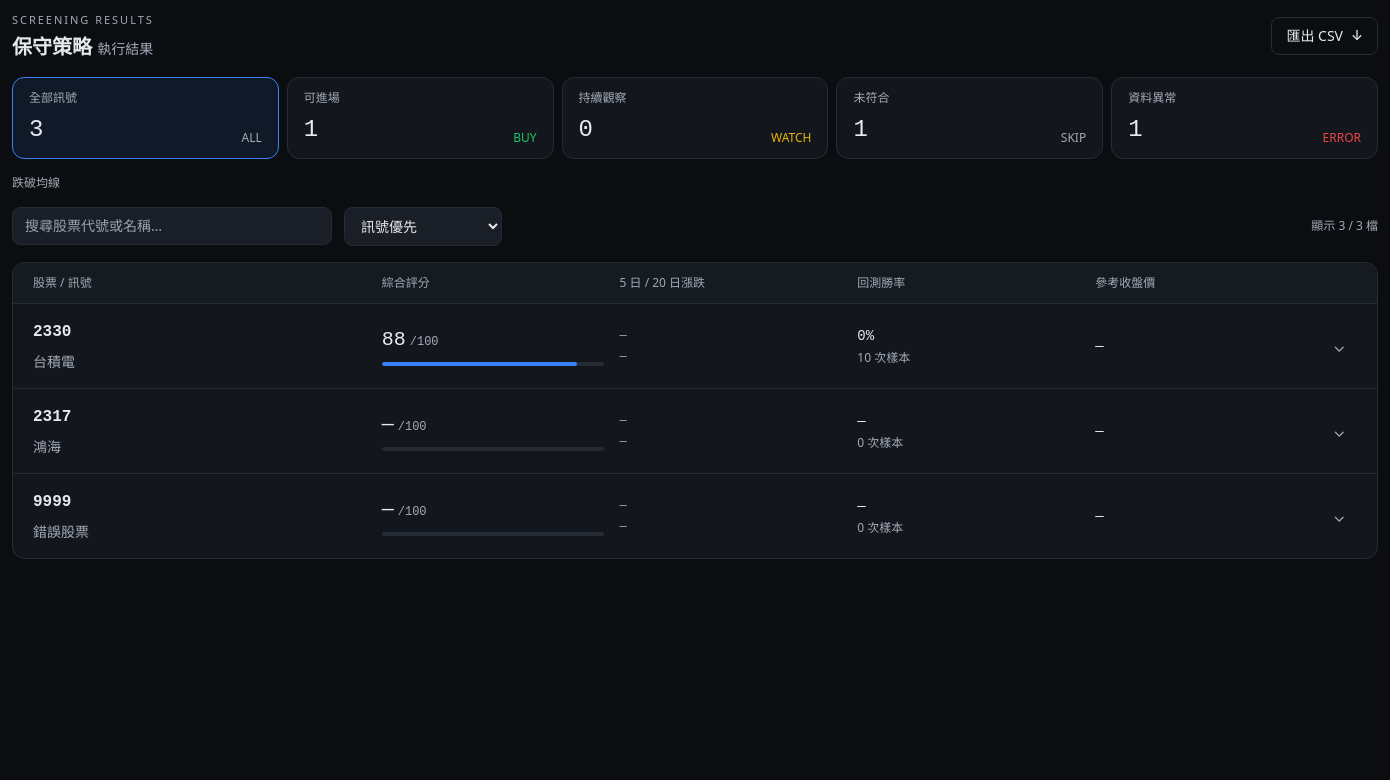
it: results retain error and missing-data rows, and preserve zero winrate
Expected: the text "錯誤股票" is shown, x1=33 y1=522 x2=89 y2=540
Expected: the text "0%" is shown, x1=857 y1=328 x2=874 y2=344
Step 1. Click the button "資料異常 1 ERROR" → (1152, 97), box x1=1111 y1=76 x2=1378 y2=158
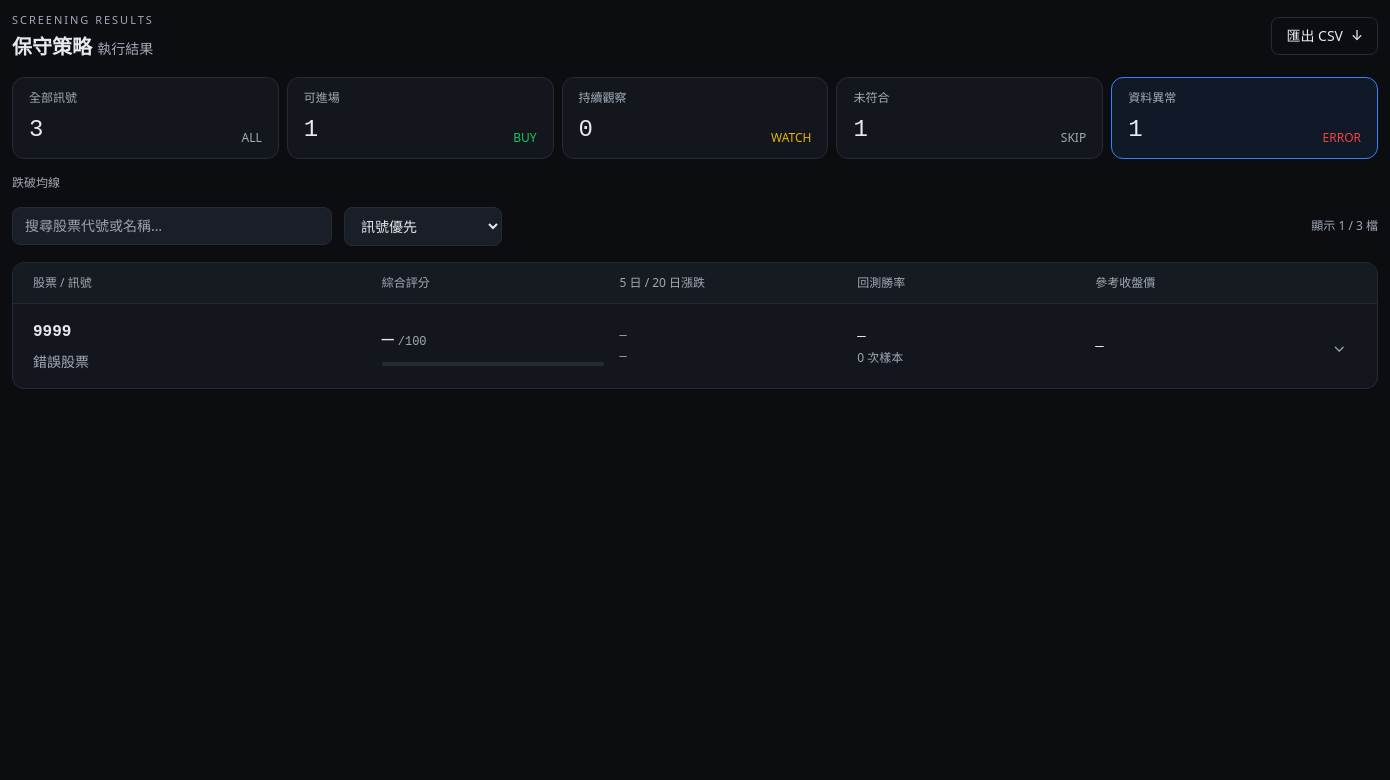
Expected: the text "錯誤股票" is shown, x1=33 y1=352 x2=89 y2=370
Result: the heading "台積電" is gone
Step 2. Click the button "全部訊號 3 ALL" → (53, 97), box x1=12 y1=76 x2=279 y2=158
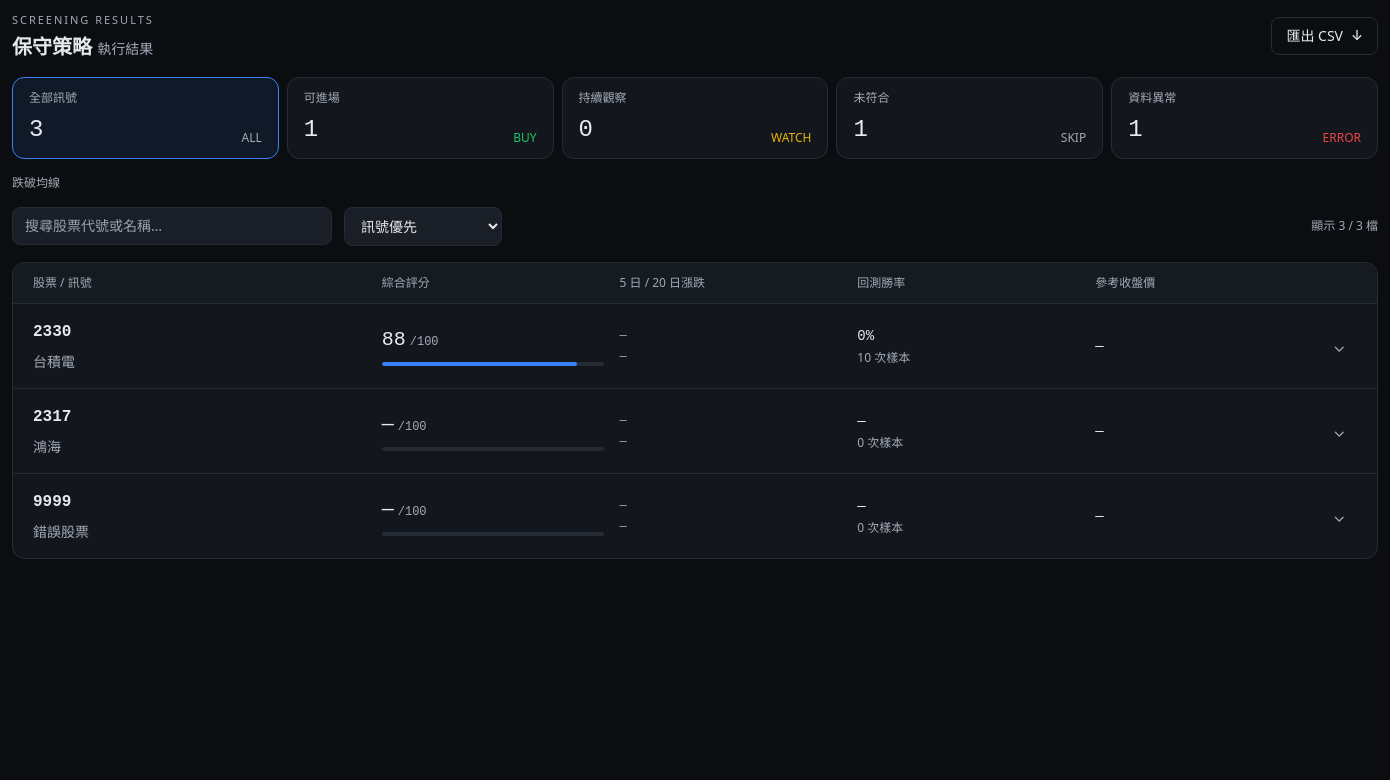
Step 3. Type "2330" into the search field labelled "搜尋股票" → (172, 226), box x1=12 y1=207 x2=332 y2=245
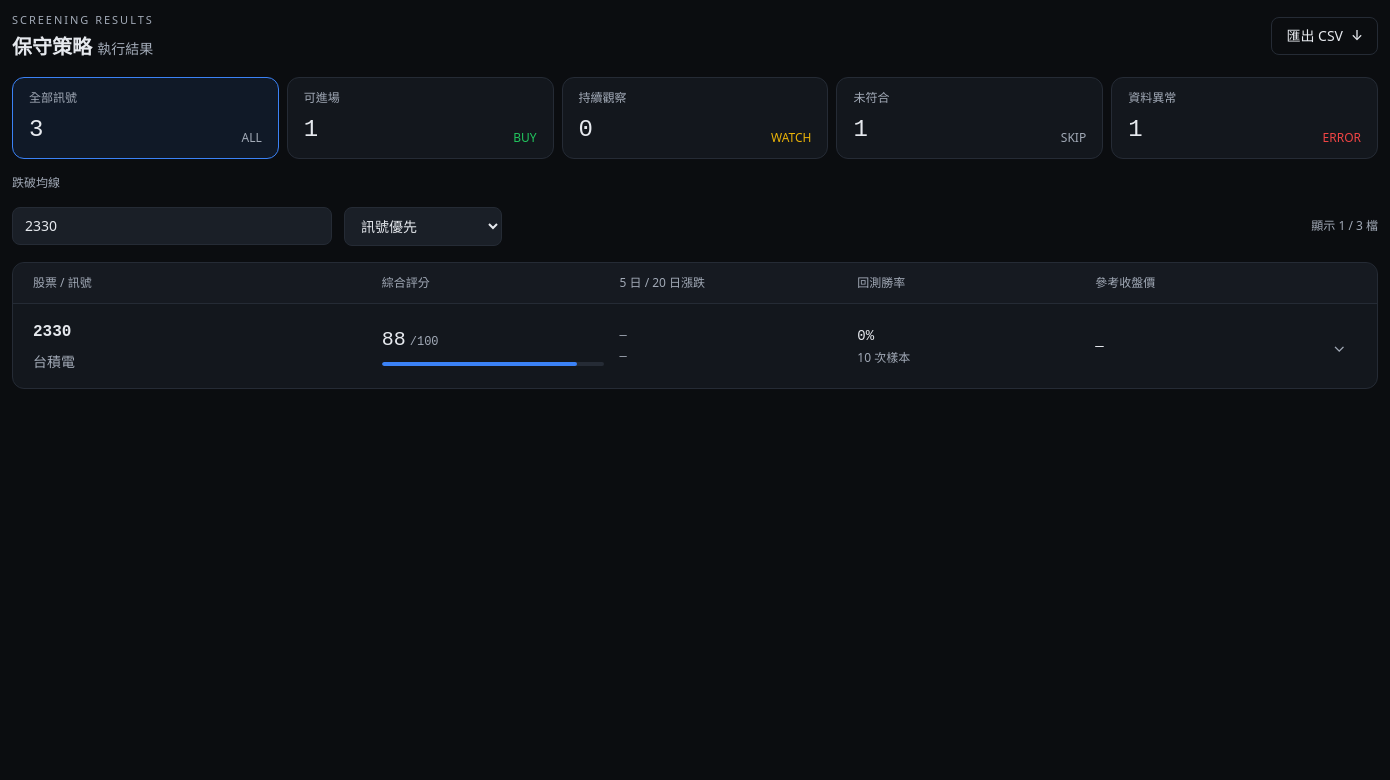
Result: the text "台積電" is shown at x1=33 y1=352 x2=75 y2=370
Result: the heading "錯誤股票" is gone
